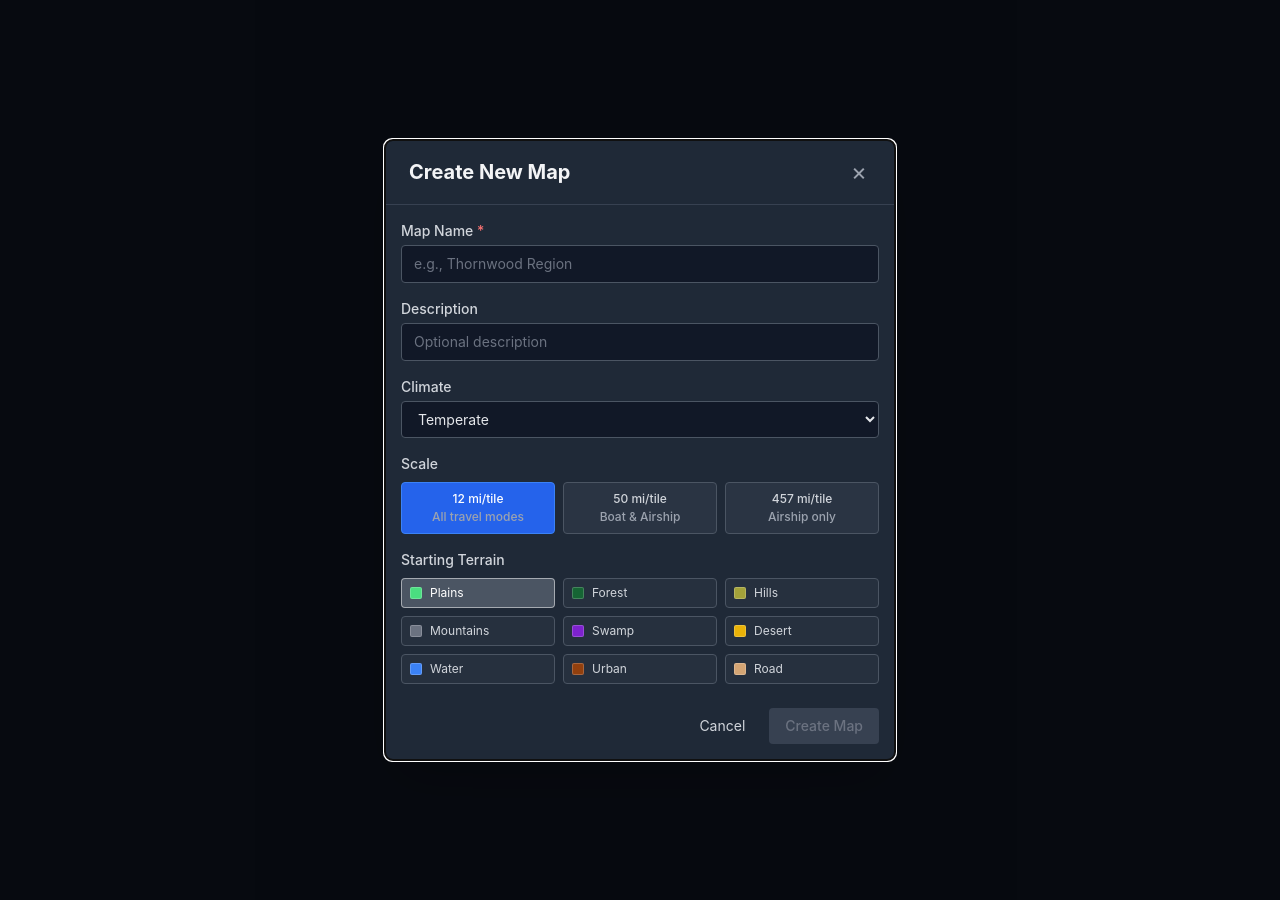
MapCreateDialog › validates name is required
Expected: the button "Create Map" is disabled, [769, 708, 879, 744]
Type "New Map" into the field with placeholder "e.g., Thornwood Region" at (640, 264), box [401, 245, 879, 283]
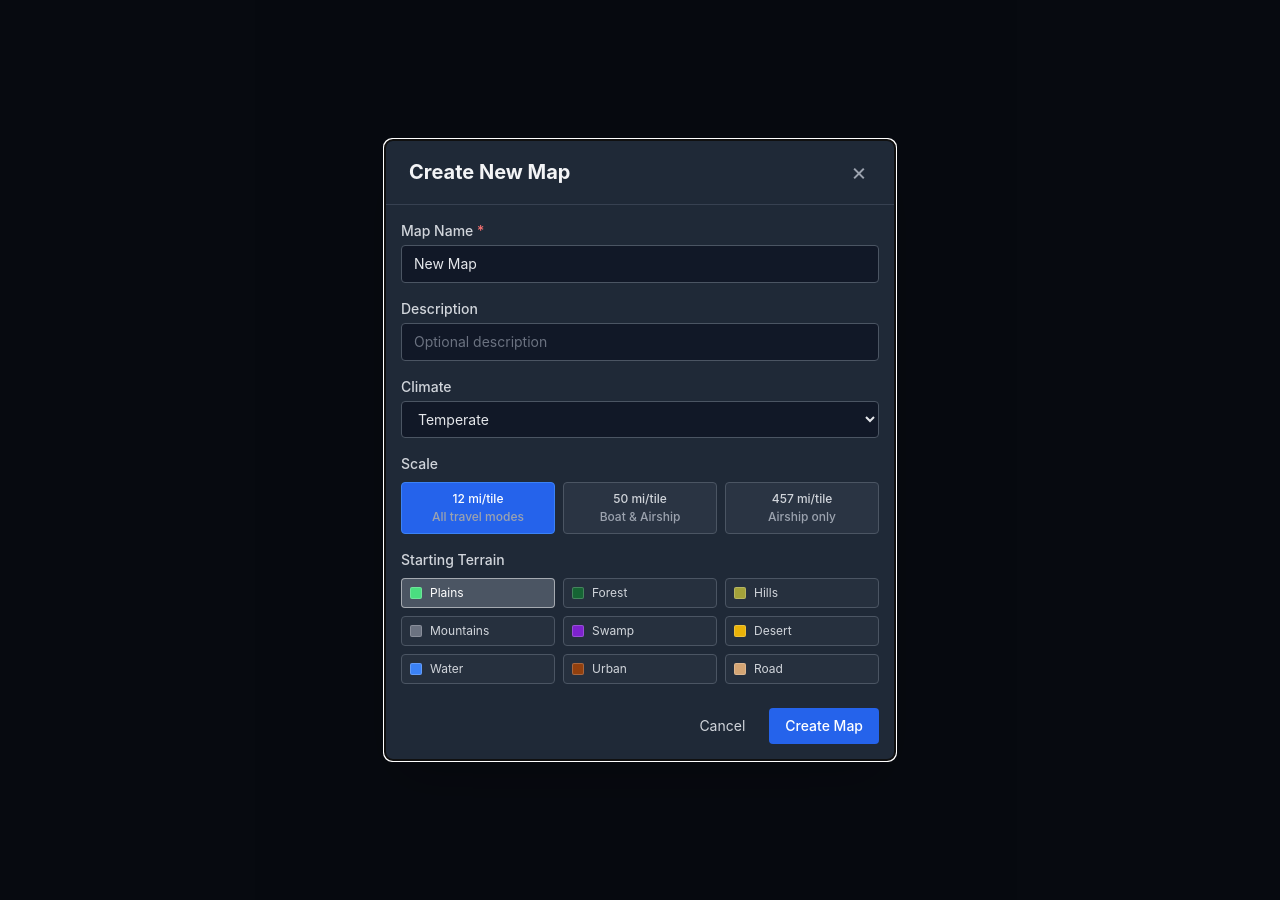
Expected: the button "Create Map" is enabled, [769, 708, 879, 744]
